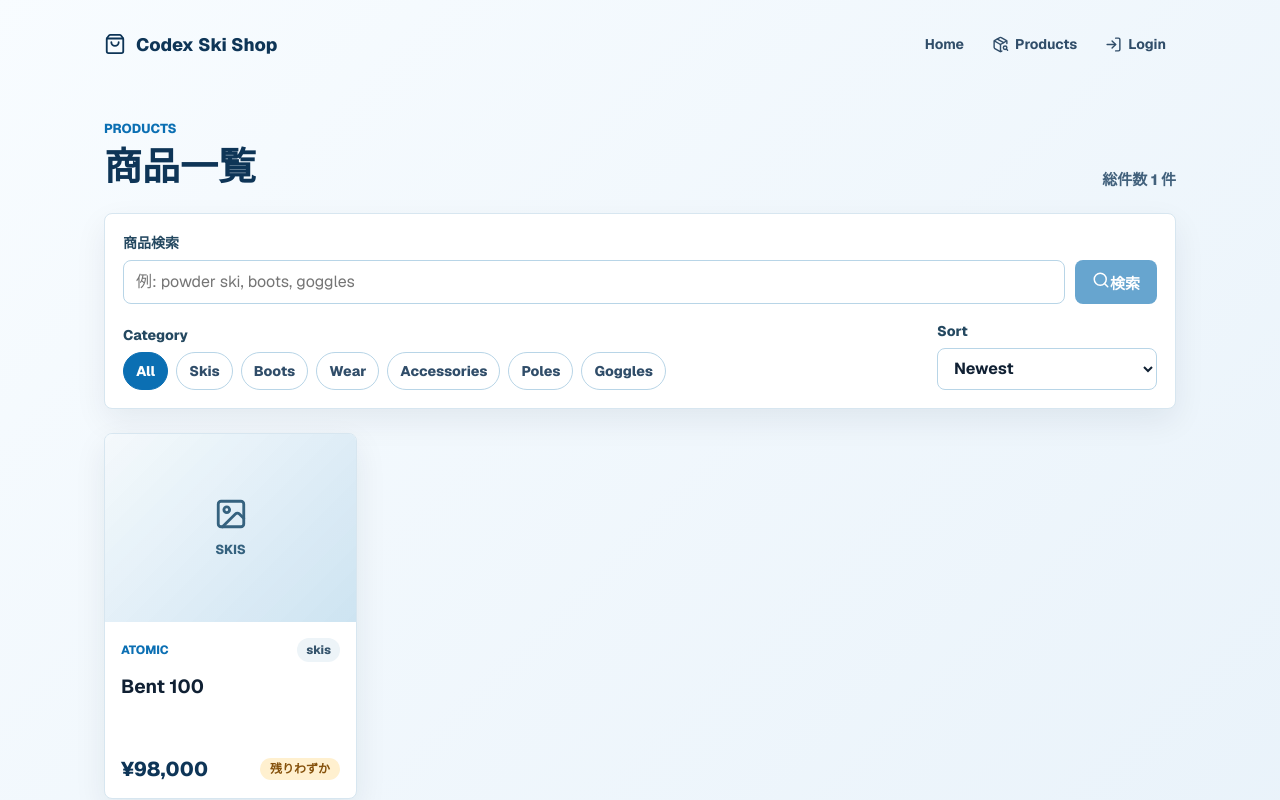
Test: ProductsPageClient › uses only the search API for zero-hit searches and shows no-results state
Expected: the heading "Bent 100" is shown, top-left (121, 674), bottom-right (204, 699)
Type "not existing ski" into the search field labelled "商品検索".
click(594, 282); type("not existing ski")  # box top-left (123, 260), bottom-right (1065, 304)
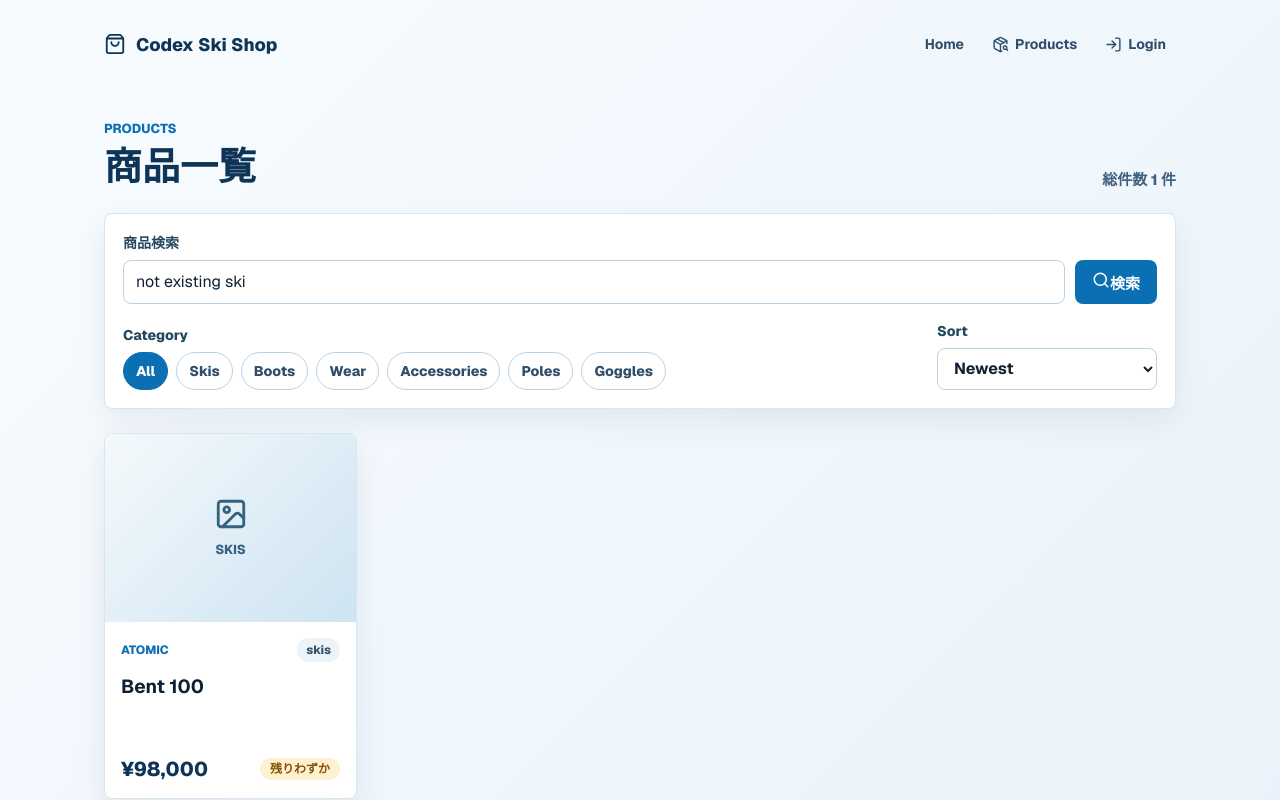
Click the button "検索".
click(1116, 282)  # box top-left (1075, 260), bottom-right (1157, 304)
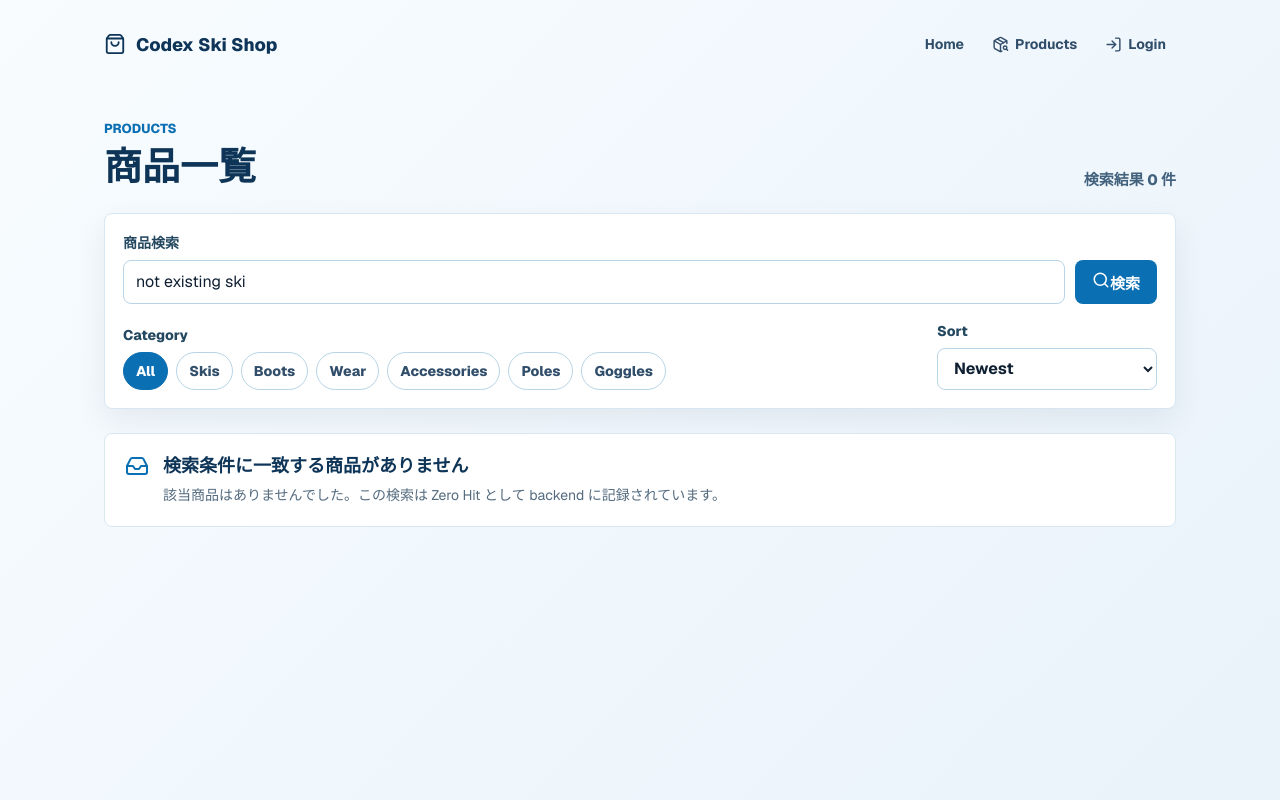
Expected: the heading "検索条件に一致する商品がありません" is shown, top-left (163, 454), bottom-right (468, 477)
Expected: the text "検索結果 0 件" is shown, top-left (1084, 168), bottom-right (1176, 189)
